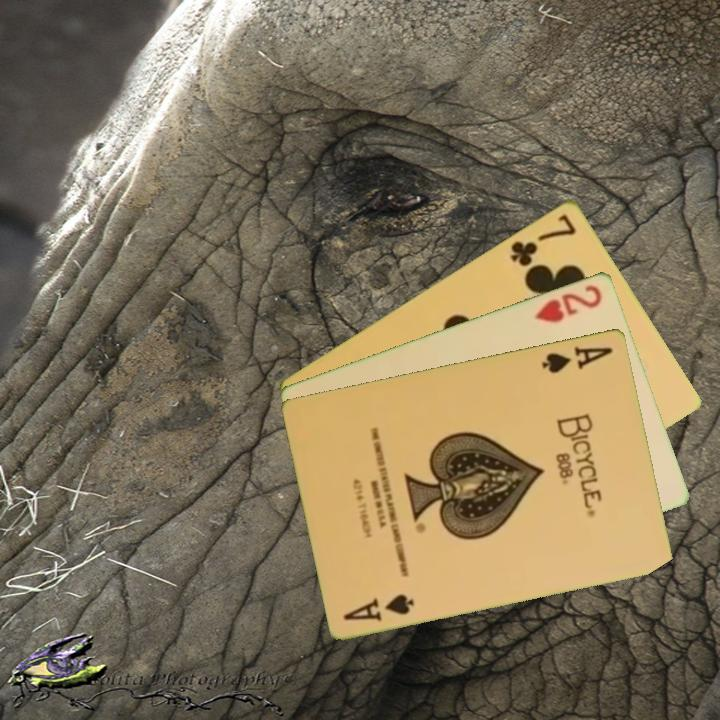2h: (530, 280, 605, 326)
7c: (506, 209, 580, 269)
As: (538, 341, 616, 376), (340, 590, 418, 624)
